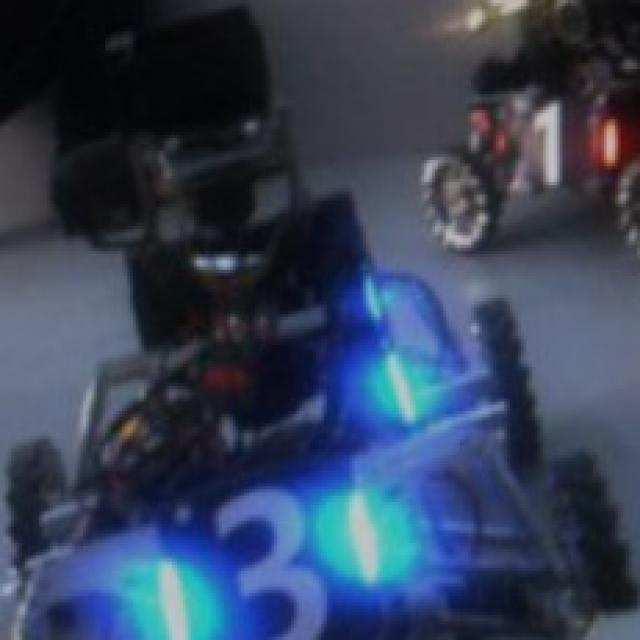B3: (152, 489, 382, 640)
R1: (484, 100, 620, 182)
